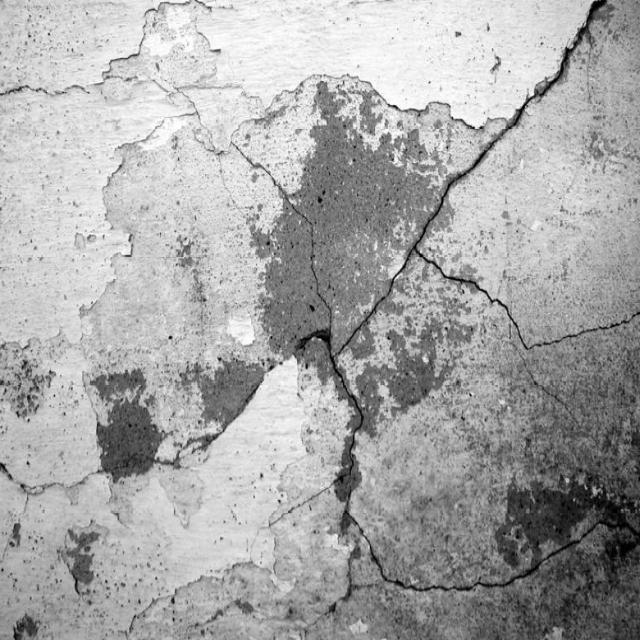Wall_Cracks: (6, 2, 636, 640)
